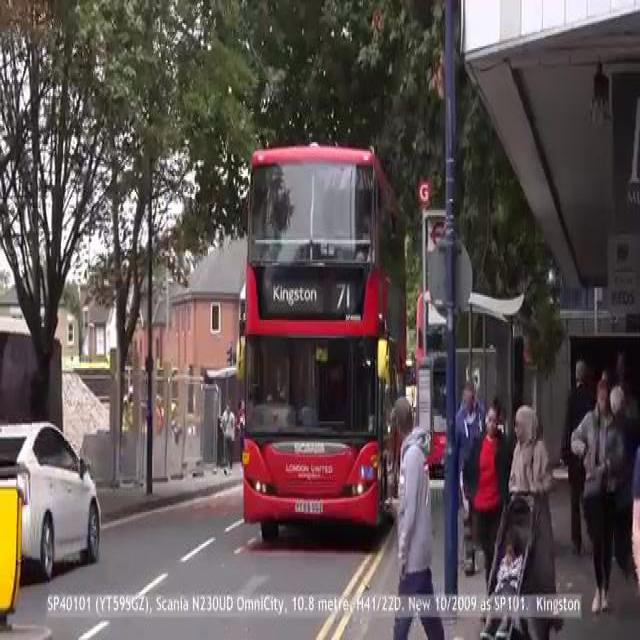motorcycle: (238, 148, 393, 548)
